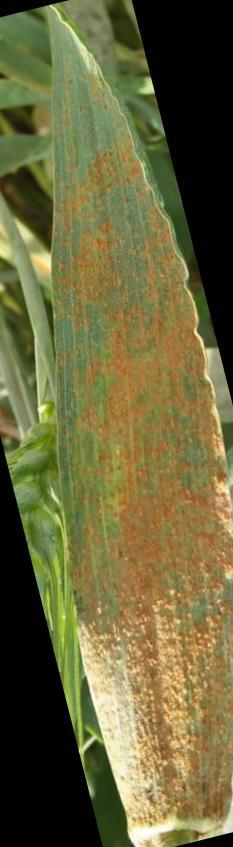Wheat: (79, 443, 220, 614), (78, 220, 158, 432), (99, 623, 233, 710), (121, 726, 231, 807)
